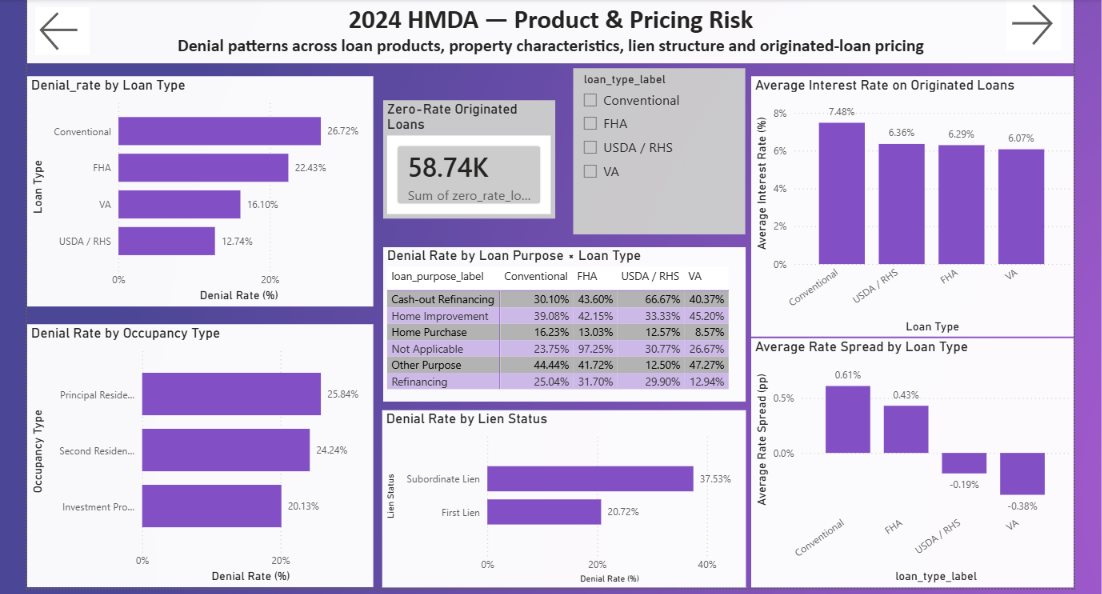

What the dashboard file says about the page in this screenshot:
{"tool":"powerbi","page":{"name":"Product & Pricing Risk","canvas":[1280,720],"ordinal":4},"visuals":[{"type":"textbox","box":[0,0,1280.3,78.3],"z":0},{"type":"clusteredBarChart","title":"Denial_rate by Loan Type","fields":{"Category":["hmda_credit_risk vw_loan_type_risk.loan_type_label"],"Y":["Sum(hmda_credit_risk vw_loan_type_risk.denial_rate)"]},"box":[0,94.2,423.1,281.3],"z":1000},{"type":"clusteredBarChart","title":"Denial Rate by Occupancy Type","fields":{"Category":["hmda_credit_risk vw_occupancy_risk.occupancy_type_label"],"Y":["Sum(hmda_credit_risk vw_occupancy_risk.denial_rate)"]},"box":[0,397.4,423.1,321.6],"z":2000},{"type":"clusteredBarChart","title":"Denial Rate by Lien Status","fields":{"Category":["hmda_credit_risk vw_lien_risk.lien_status_label"],"Y":["Sum(hmda_credit_risk vw_lien_risk.denial_rate)"]},"box":[433.9,502.2,444.6,216.9],"z":3000},{"type":"pivotTable","title":"Denial Rate by Loan Purpose × Loan Type","fields":{"Rows":["hmda_credit_risk vw_loan_purpose_type_risk.loan_purpose_label"],"Columns":["hmda_credit_risk vw_loan_purpose_type_risk.loan_type_label"],"Values":["Avg(hmda_credit_risk vw_loan_purpose_type_risk.denial_rate)"]},"box":[435.2,302.7,443.3,188.8],"z":4000},{"type":"clusteredColumnChart","title":"Average Interest Rate on Originated Loans","fields":{"Category":["hmda_credit_risk vw_pricing_risk.loan_type_label"],"Y":["Avg(hmda_credit_risk vw_pricing_risk.avg_interest_rate)"]},"box":[885,94.6,395.2,318.8],"z":5000},{"type":"clusteredColumnChart","title":"Average Rate Spread by Loan Type","fields":{"Category":["hmda_credit_risk vw_pricing_risk.loan_type_label"],"Y":["Sum(hmda_credit_risk vw_pricing_risk.avg_rate_spread)"]},"box":[885.3,414.5,395,304.5],"z":6000},{"type":"cardVisual","title":"Zero-Rate Originated Loans","fields":{"Data":["Sum(hmda_credit_risk vw_pricing_risk.zero_rate_loans)"]},"box":[435.2,123.2,210.3,144.6],"z":7000},{"type":"actionButton","box":[1197.2,0,67.3,62.4],"z":8000},{"type":"actionButton","box":[10,10,66,58.7],"z":9000},{"type":"slicer","fields":{"Values":["Dim Loan Type.loan_type_label"]},"box":[668.3,84.4,210.3,203.6],"z":10000}]}

Visuals, with their boxes in screenshot pixels (x1, y1, x2, y2):
textbox: (26, 0, 1068, 61)
"Denial_rate by Loan Type" clusteredBarChart: (26, 74, 370, 303)
"Denial Rate by Occupancy Type" clusteredBarChart: (26, 320, 370, 582)
"Denial Rate by Lien Status" clusteredBarChart: (379, 406, 741, 582)
"Denial Rate by Loan Purpose × Loan Type" pivotTable: (380, 243, 741, 397)
"Average Interest Rate on Originated Loans" clusteredColumnChart: (746, 74, 1067, 333)
"Average Rate Spread by Loan Type" clusteredColumnChart: (746, 334, 1068, 582)
"Zero-Rate Originated Loans" cardVisual: (380, 97, 551, 215)
actionButton: (1000, 0, 1055, 48)
actionButton: (34, 5, 88, 53)
slicer - Dim Loan Type.loan_type_label: (570, 66, 741, 231)
